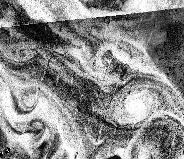CE: (118, 83, 157, 122), (13, 84, 44, 114)
